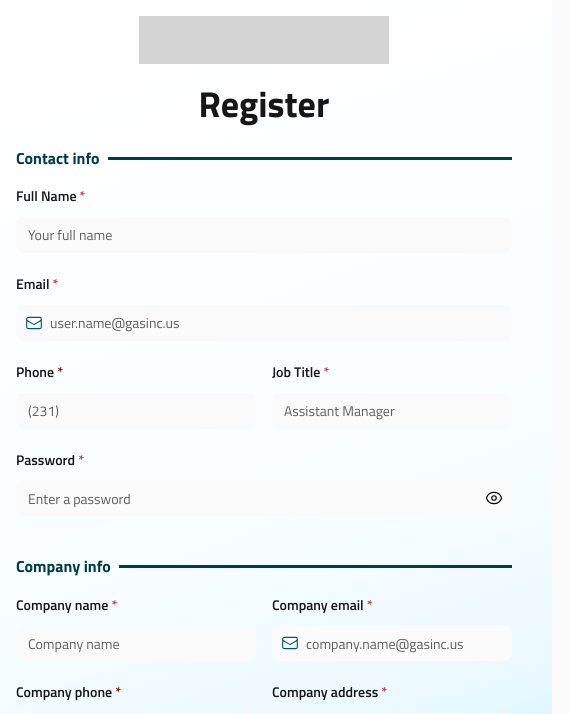
Test: RegisterForm Component › should validate that password must be in correct format (one uppercase, one lowercase, one number and one special character), even if 8 characters are passed
Type "abc12321" into the password field with test id "password-input" at (264, 498), box [16, 480, 512, 516]
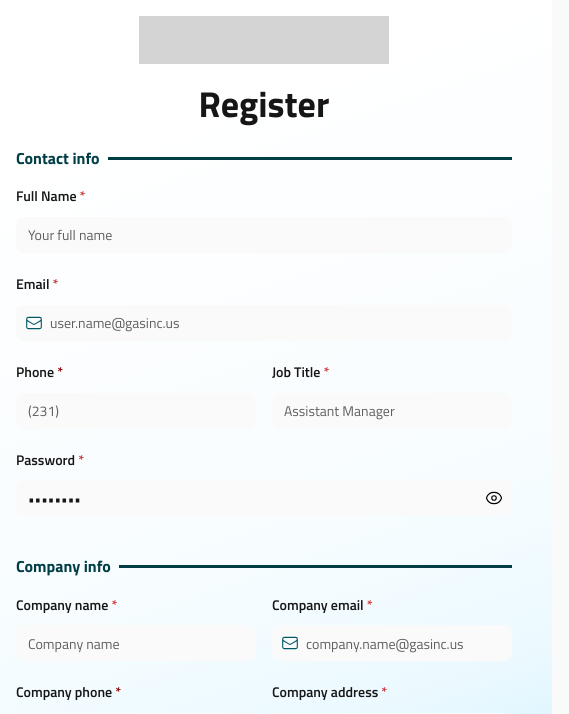
Press Tab
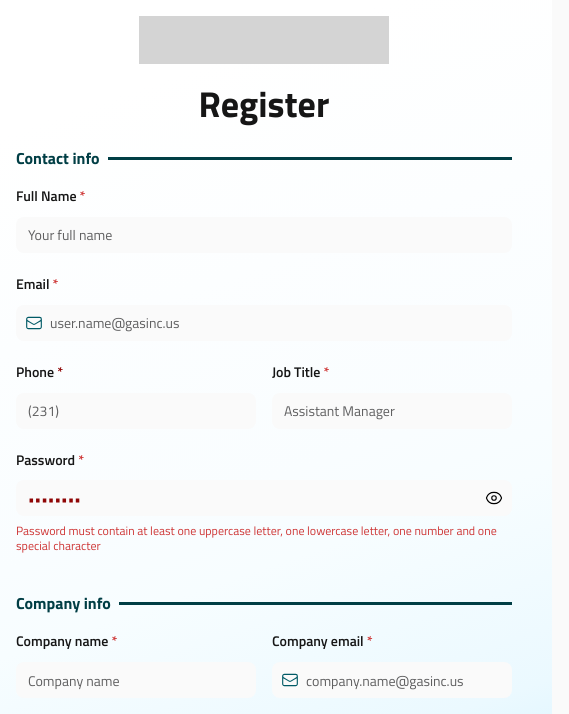
Expected: the text "Password must contain at least one uppercase letter" is shown, [16, 521, 497, 555]
